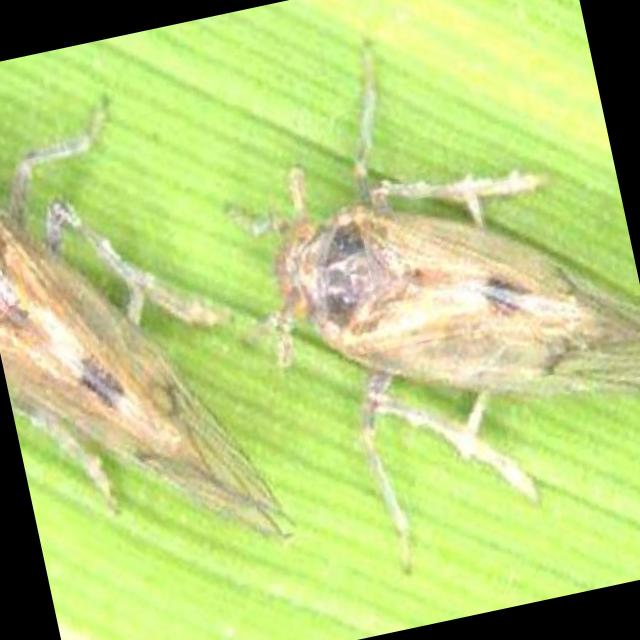brown-planthopper: (249, 114, 640, 468), (0, 121, 296, 579)
